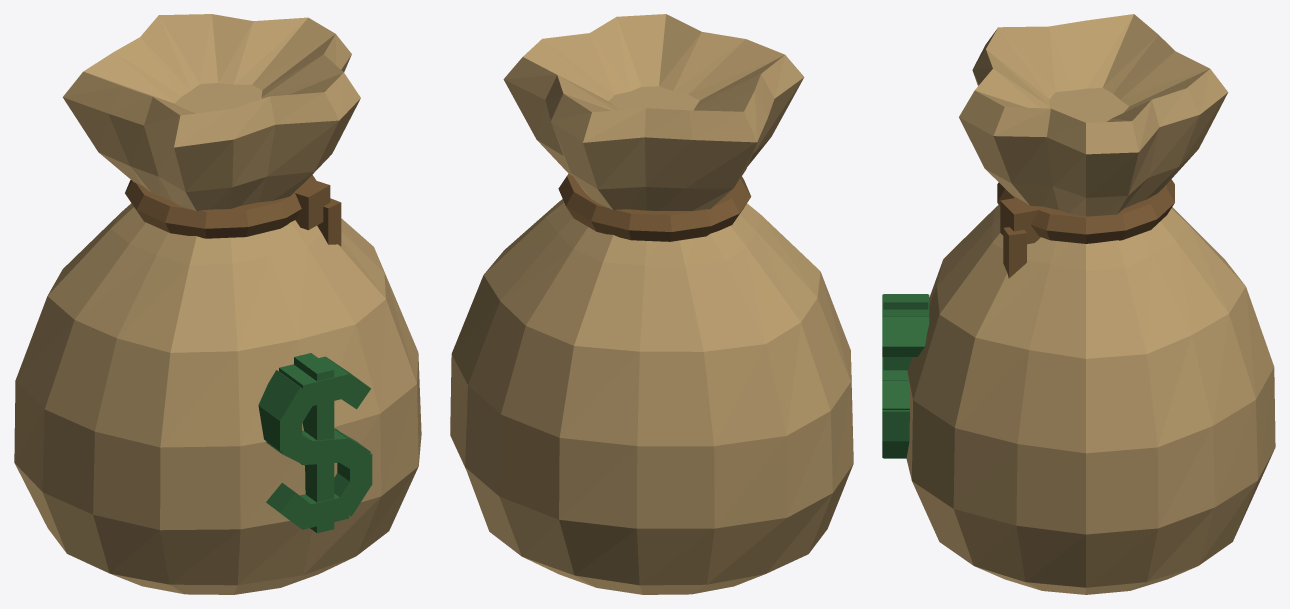
The model's file is saco_dinheiro.glb.
3 renders of one model, left to right at view 1: azimuth 30°, elevation 25°; view 2: azimuth 150°, elevation 25°; view 3: azimuth 270°, elevation 25°, orthographic. The views are drawn at different scales.
Visible parts, largest first — view 1: saco_corpo, simbolo_cifrao, corda; view 2: saco_corpo, corda; view 3: saco_corpo, corda, simbolo_cifrao.
Part boxes in pixels (x1=…): saco_corpo: x1=14, y1=14, x2=421, y2=594; simbolo_cifrao: x1=258, y1=353, x2=372, y2=533; corda: x1=125, y1=175, x2=341, y2=246; saco_corpo: x1=450, y1=14, x2=853, y2=594; corda: x1=558, y1=174, x2=751, y2=241; saco_corpo: x1=906, y1=14, x2=1275, y2=594; corda: x1=997, y1=179, x2=1174, y2=278; simbolo_cifrao: x1=882, y1=294, x2=929, y2=458.
Bounding box in the file's own units: 0.392 × 0.5 × 0.3763.
